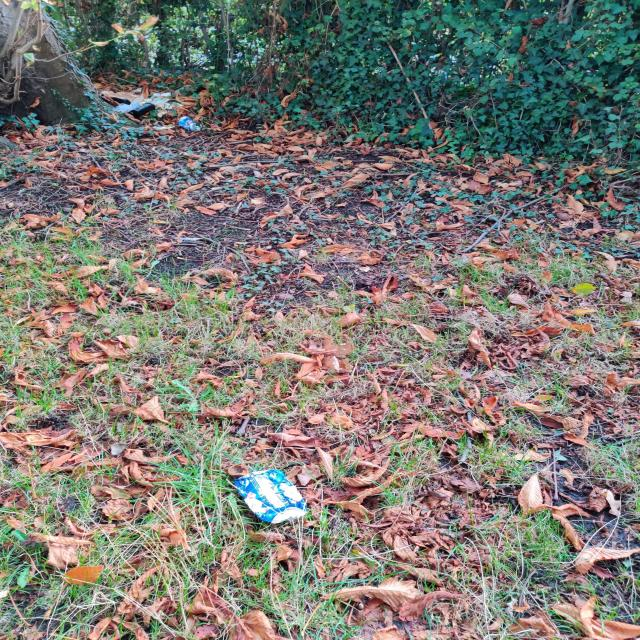litter: (233, 470, 307, 523), (129, 102, 156, 116), (112, 101, 139, 113), (179, 115, 200, 130)
